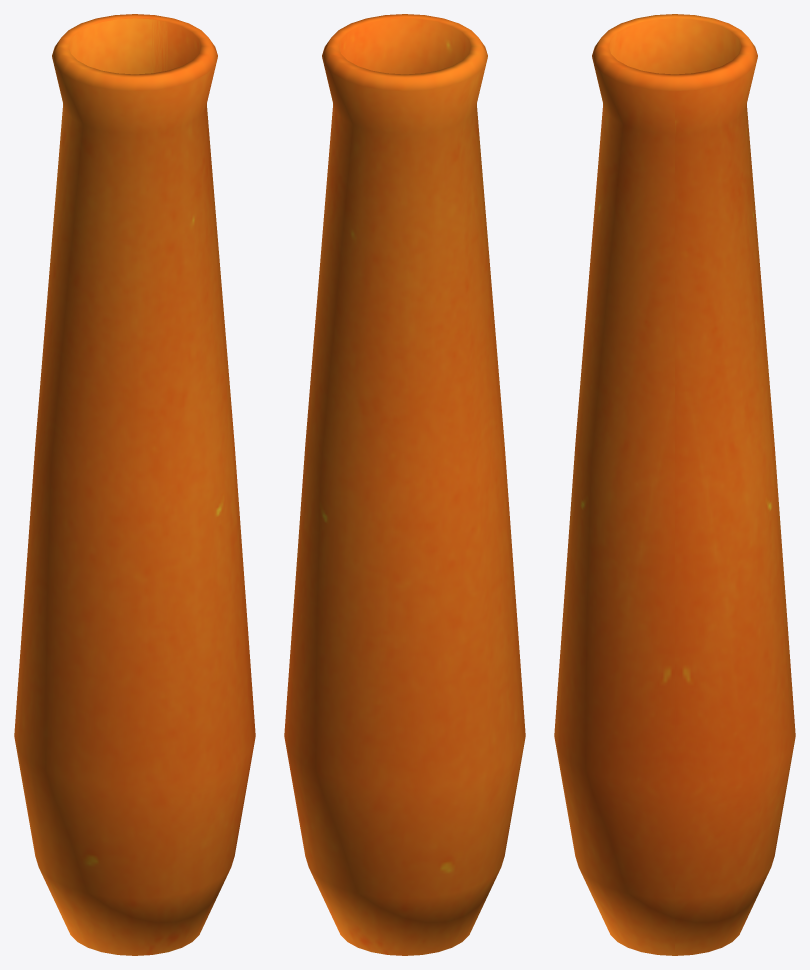
File: vase.fbx
3 renders of one model, left to right at view 1: azimuth 30°, elevation 25°; view 2: azimuth 150°, elevation 25°; view 3: azimuth 270°, elevation 25°, orthographic.
Parts seen in each view (by area): view 1: vase; view 2: vase; view 3: vase.
Boxes of the visible parts, x1,y1,x2,y2 form: vase: (14,14,255,955); vase: (284,14,525,955); vase: (554,14,795,955).
Bounding box in the file's own units: 23 × 92.65 × 23.
